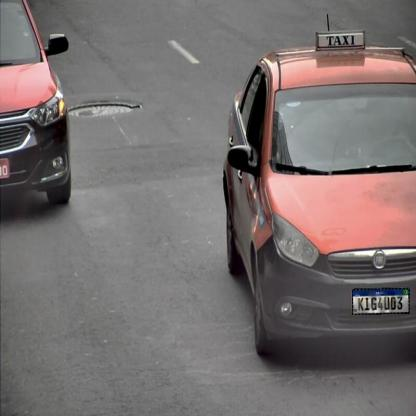PlacaM: (352, 288, 410, 315)
